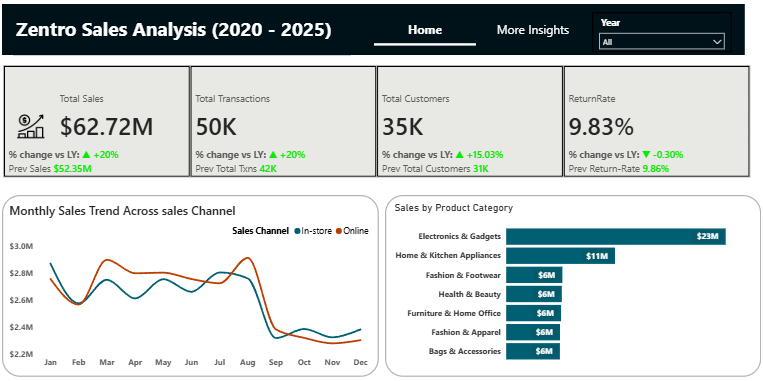

What the dashboard file says about the page in this screenshot:
{"tool":"powerbi","page":{"name":"Home","canvas":[1280,720],"ordinal":0},"visuals":[{"type":"shape","box":[15,76.7,1238.3,85],"z":0},{"type":"cardVisual","fields":{"Data":["_Measures.Total Sales","_Measures.Total Transactions","_Measures.Total Customers","_Measures.ReturnRate"]},"box":[0,161.7,1280,221.7],"z":1000},{"type":"slicer","fields":{"Values":["DateTable.Year"]},"box":[998.3,90,233.3,66.7],"z":2000},{"type":"lineChart","title":"Monthly Sales Trend Across sales Channel","fields":{"Y":["Sum(Zentro.SalesAmount)"],"Series":["Zentro.SalesChannel"],"Category":["DateTable.Month Name"]},"box":[15,395,628.3,303.3],"z":3000},{"type":"barChart","title":"Sales by Product Category","fields":{"Category":["Zentro.Product Category"],"Y":["Sum(Zentro.SalesAmount)"]},"box":[653.4,394.8,626.6,304],"z":4000},{"type":"pageNavigator","box":[635,90,350,56.7],"z":5000},{"type":"textbox","box":[33.3,90,561.7,71.7],"z":6000}]}

Visuals, with their boxes on the page's 1280x720 design canvas (x1, y1, x2, y2). These are canvas units, not pixel positions in the 763x381 screenshot, which may show the page scaled, cropped or inside an application window:
shape: 15,77,1253,162
cardVisual - _Measures.Total Sales x _Measures.Total Transactions: 0,162,1280,383
slicer - DateTable.Year: 998,90,1232,157
"Monthly Sales Trend Across sales Channel" lineChart: 15,395,643,698
"Sales by Product Category" barChart: 653,395,1280,699
pageNavigator: 635,90,985,147
textbox: 33,90,595,162
